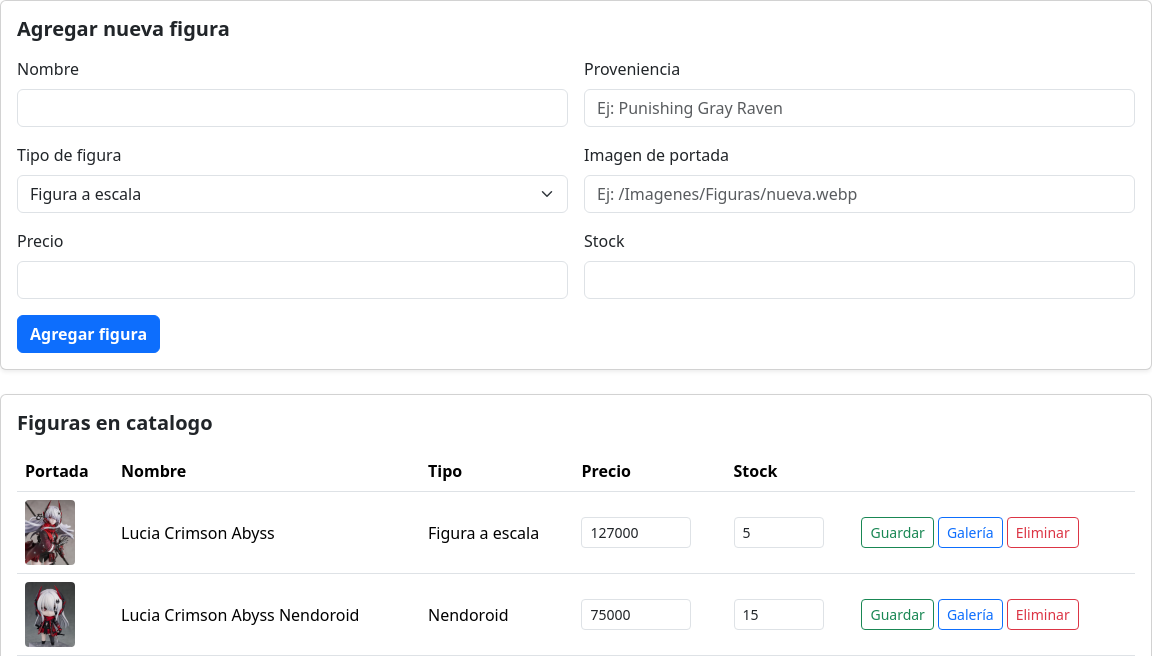
formulario para agregar figuras › agrega una figura con todos sus datos y limpia el formulario
Step 1. Type "Figura de prueba" into the 1st field → (292,108), box [17,89,568,127]
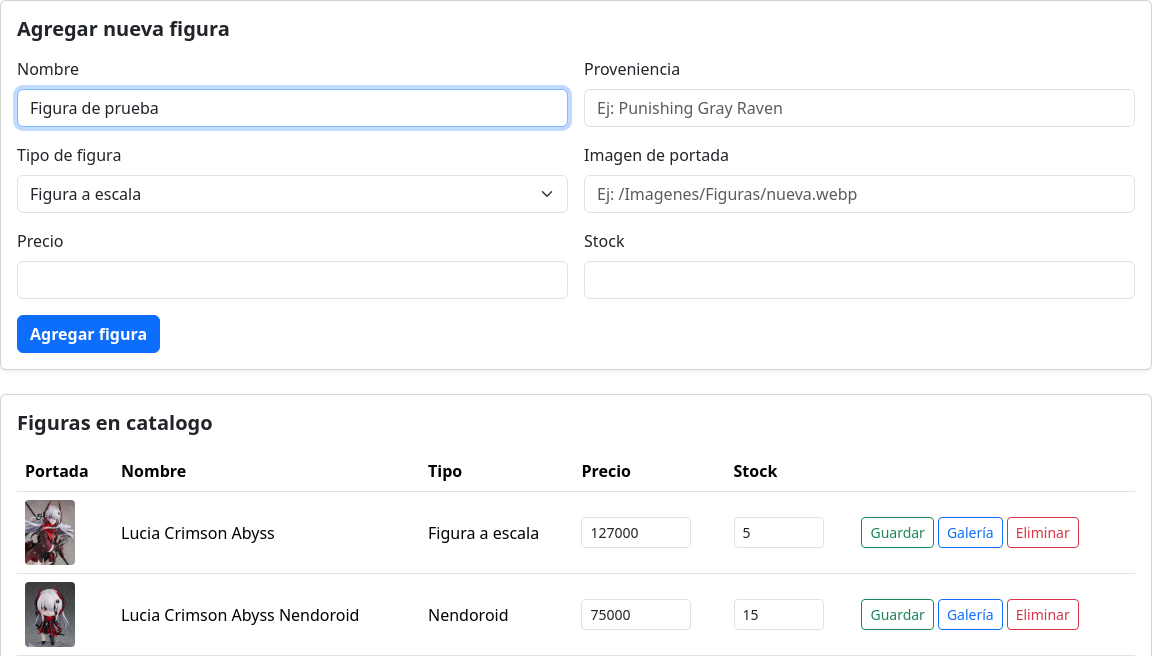
Step 2. Type "Pruebas" into the field with placeholder "Ej: Punishing Gray Raven" → (860,108), box [584,89,1135,127]
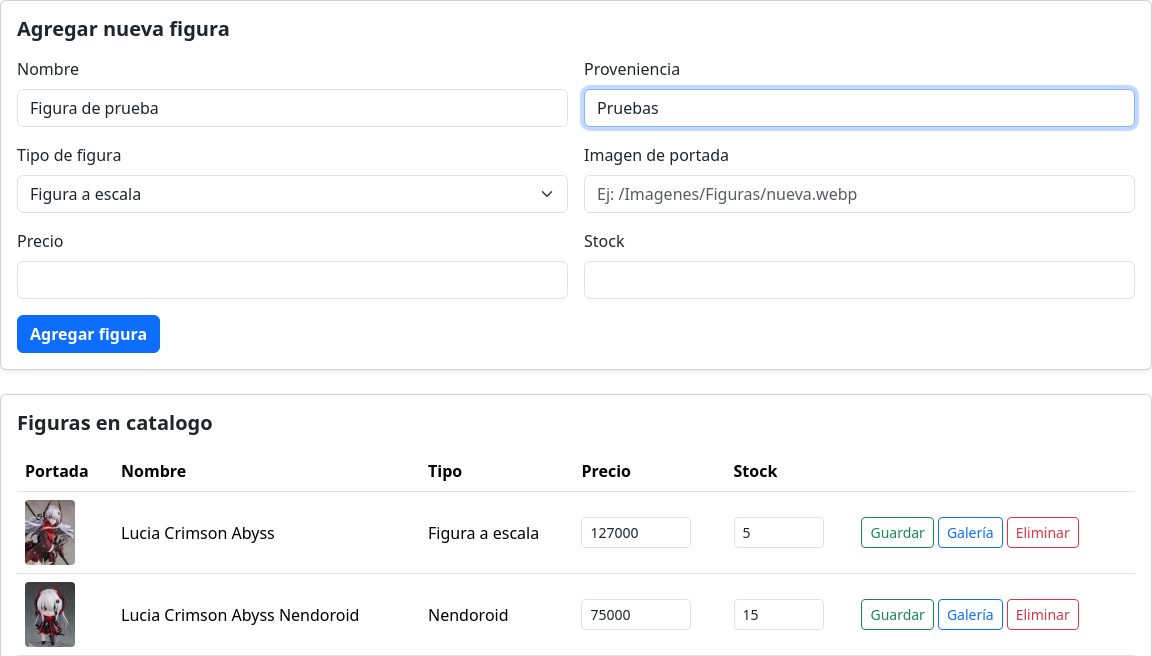
Step 3. Type "/Imagenes/Figuras/prueba.webp" into the field with placeholder "Ej: /Imagenes/Figuras/nueva.webp" → (860,194), box [584,175,1135,213]
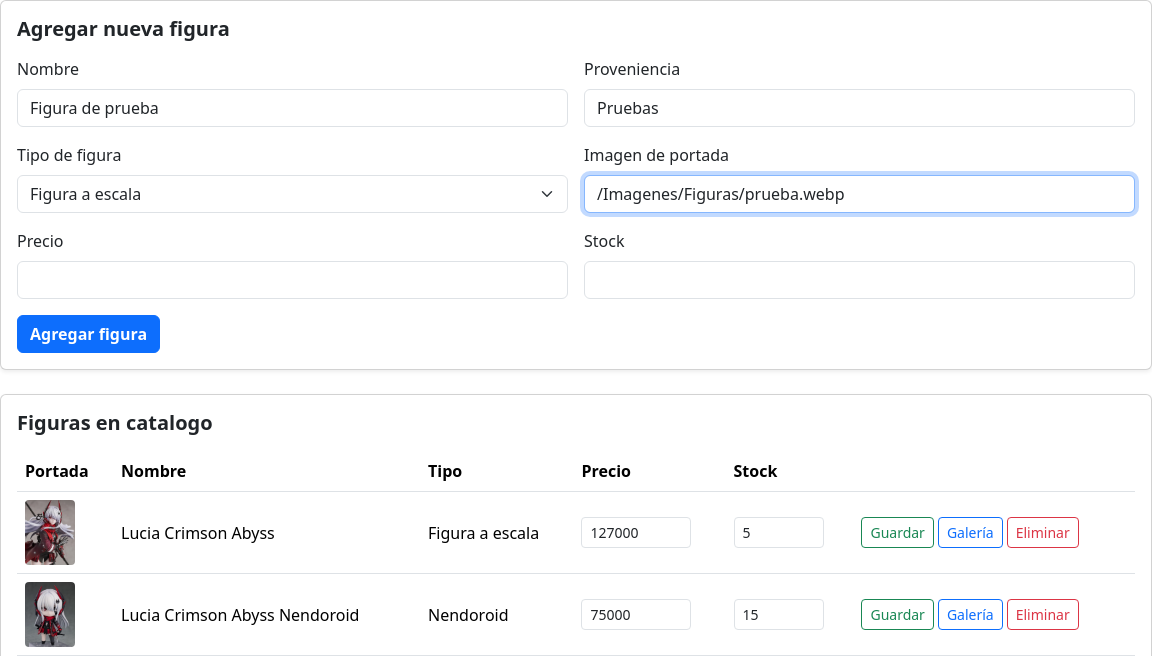
Step 4. Type "50000" into the 1st number field → (292,280), box [17,261,568,299]
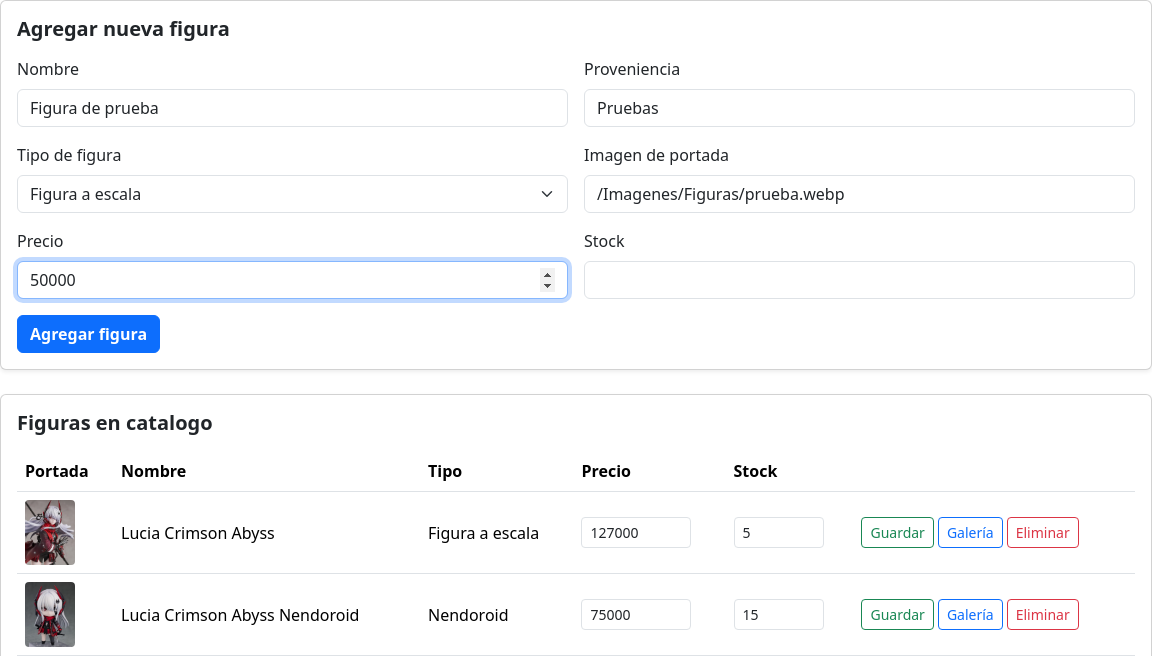
Step 5. Type "3" into the 2nd number field → (860,280), box [584,261,1135,299]
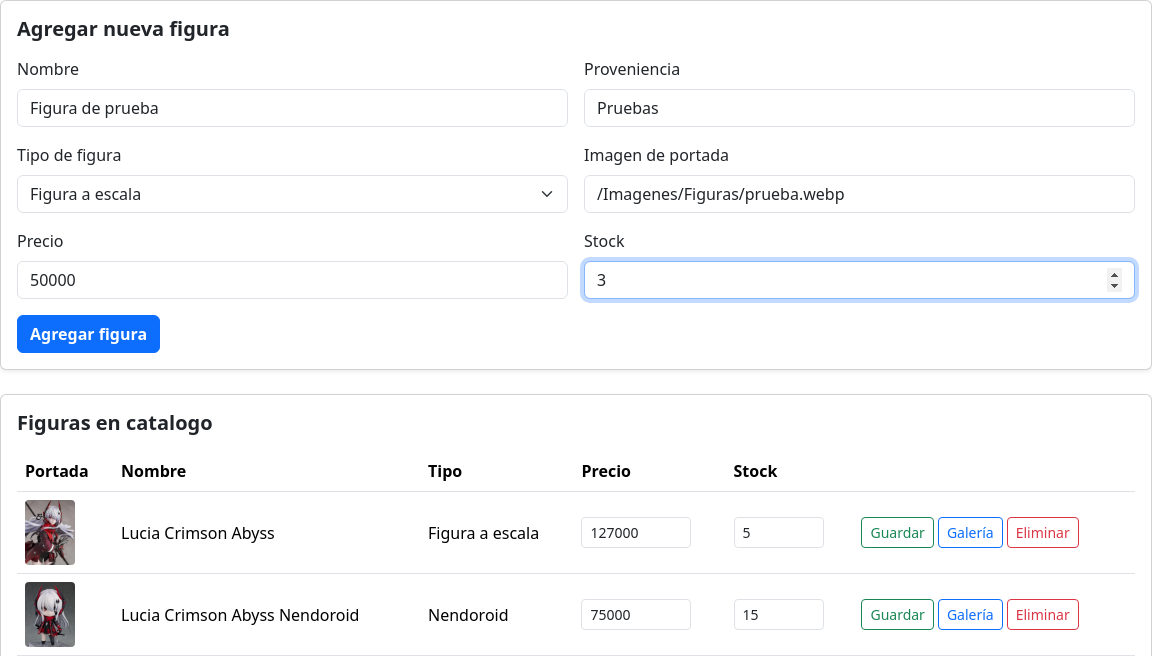
Step 6. Click the button "Agregar figura" → (89,334), box [17,315,160,353]
(page scrolled)
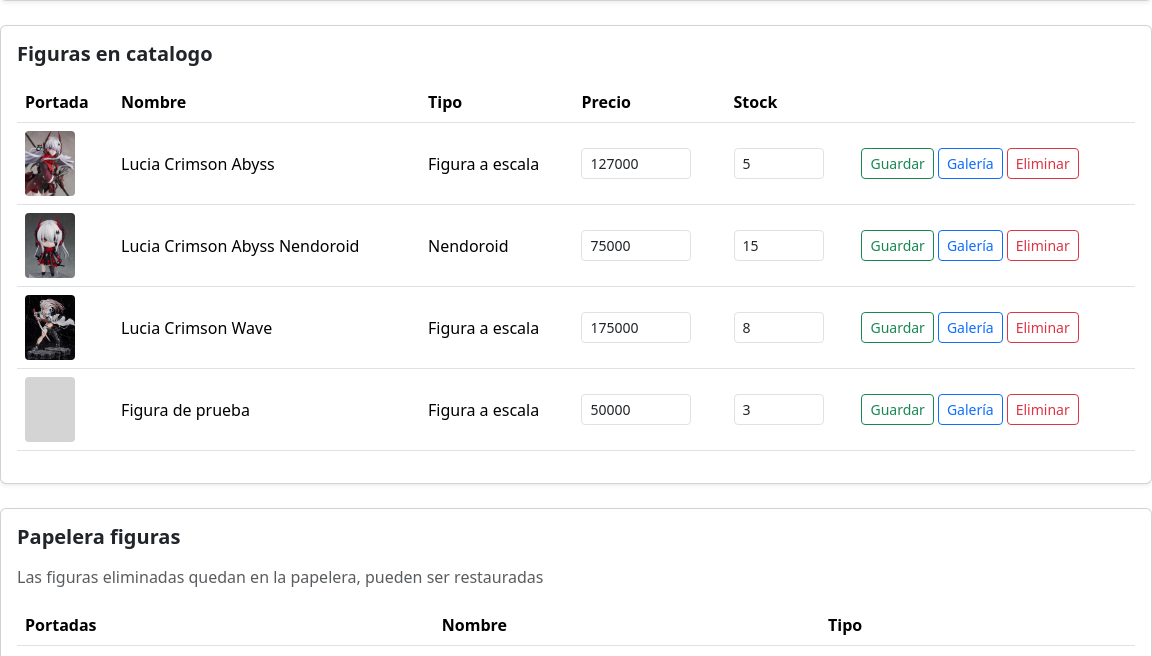
Now the row "Figura de prueba Figura a escala Guardar Galería Eliminar" is shown, box [17,368,1135,450]
